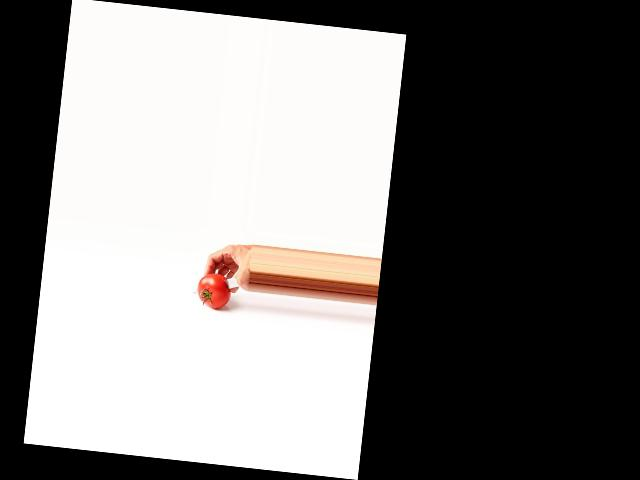tomato: (195, 271, 232, 310)
